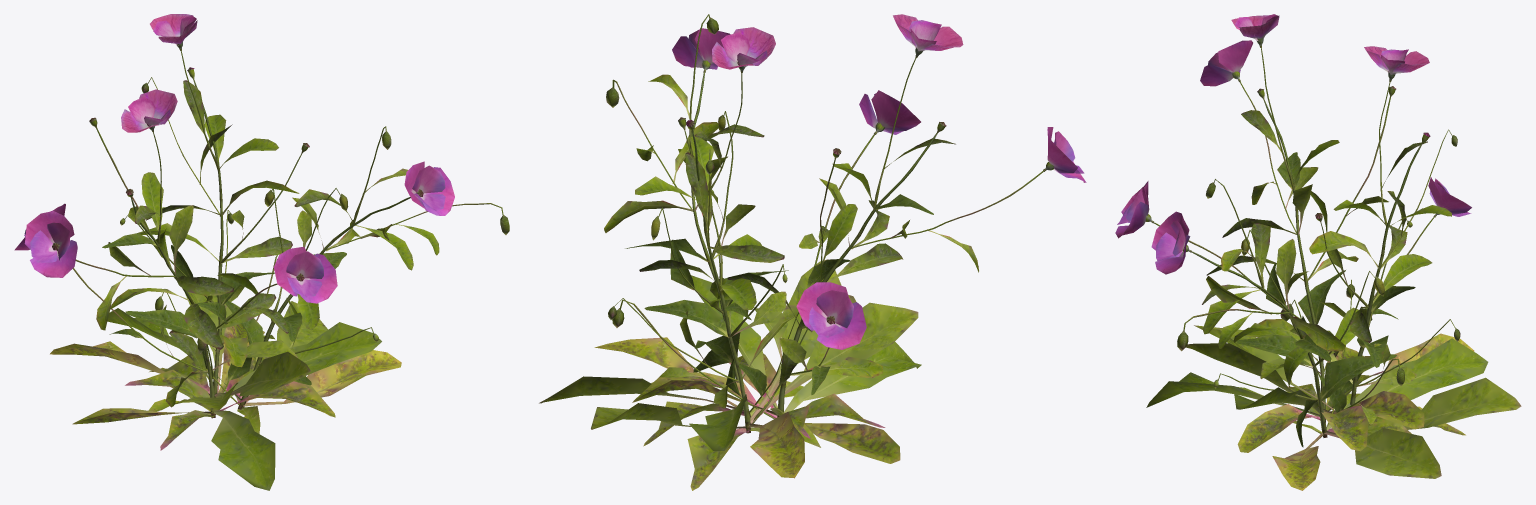
File: Poppy_bush_short_pink.glb
The picture shows the model from 3 angles, left to right: view 1: azimuth 30°, elevation 25°; view 2: azimuth 150°, elevation 25°; view 3: azimuth 270°, elevation 25°; orthographic projection. The views are drawn at different scales.
Parts seen in each view (by area): view 1: bush jr; view 2: bush jr; view 3: bush jr.
Boxes of the visible parts, bbox=[...] form: bush jr: bbox=[14, 14, 509, 490]; bush jr: bbox=[539, 14, 1086, 490]; bush jr: bbox=[1115, 14, 1521, 490].
Size of the model in its own units: 4.09 by 3.29 by 3.16.
1 material, 1 textured.
